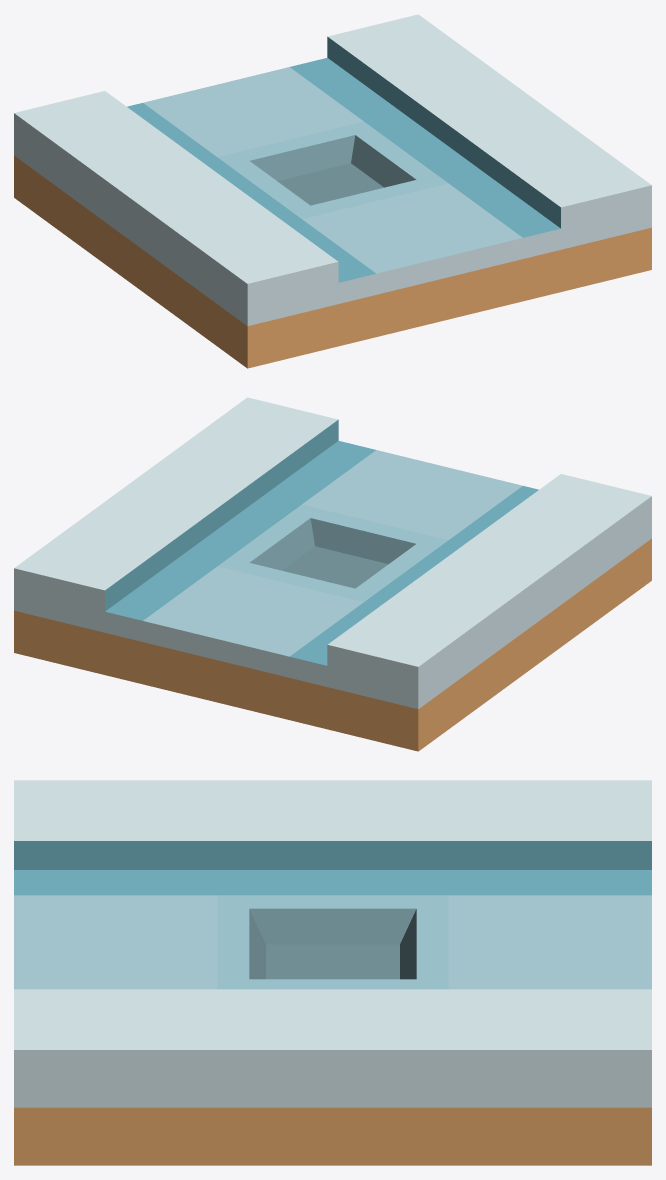
The model's file is snow_tile_spawn.dae.
The picture shows the model from 3 angles, top to bottom: view 1: azimuth 30°, elevation 25°; view 2: azimuth 150°, elevation 25°; view 3: azimuth 270°, elevation 25°; orthographic projection. The views are drawn at different scales.
Parts seen in each view (by area): view 1: snow_tile_spawn; view 2: snow_tile_spawn; view 3: snow_tile_spawn.
Boxes of the visible parts, x1,y1,x2,y2 form: snow_tile_spawn: (14, 14, 651, 368); snow_tile_spawn: (14, 397, 651, 751); snow_tile_spawn: (14, 780, 651, 1165).
Size of the model in its own units: 1 by 0.2 by 1.
